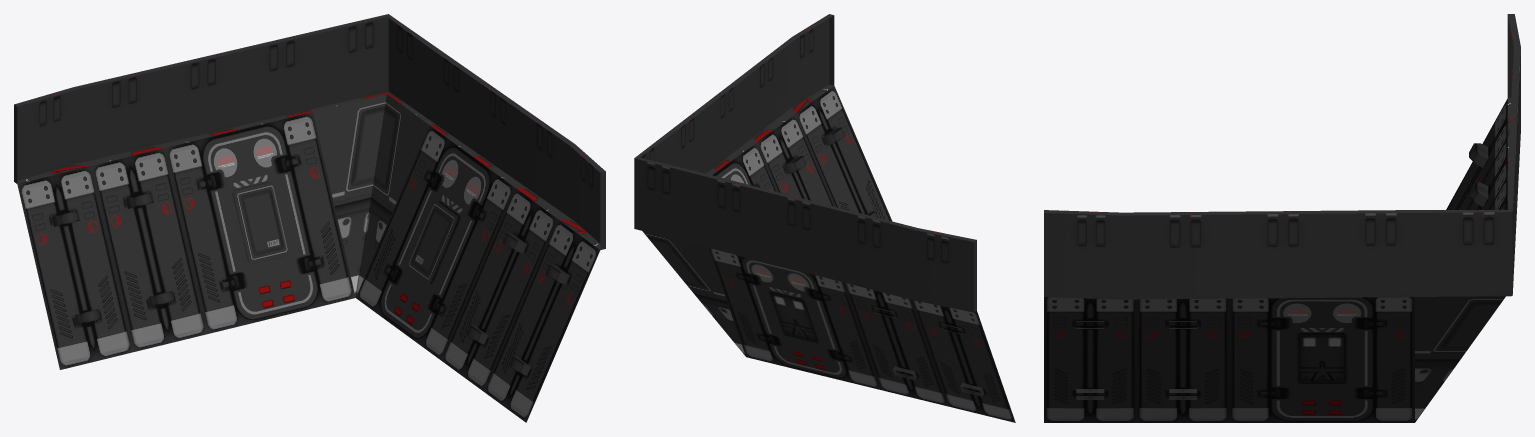
Rendered from Panel_A_2x2_2_Corner_Out_Tip_L3.FBX.
3 views of the same model, side by side, from view 1: azimuth 30°, elevation 25°; view 2: azimuth 150°, elevation 25°; view 3: azimuth 270°, elevation 25° (orthographic). The views are drawn at different scales.
Visible parts, largest first — view 1: Panel_A_2x2_2_Corner_Out_Tip_L3; view 2: Panel_A_2x2_2_Corner_Out_Tip_L3; view 3: Panel_A_2x2_2_Corner_Out_Tip_L3.
Boxes of the visible parts, x1,y1,x2,y2 form: Panel_A_2x2_2_Corner_Out_Tip_L3: (14, 14, 605, 422); Panel_A_2x2_2_Corner_Out_Tip_L3: (634, 14, 1015, 422); Panel_A_2x2_2_Corner_Out_Tip_L3: (1044, 14, 1520, 422).
Size of the model in its own units: 257 by 150 by 257.
